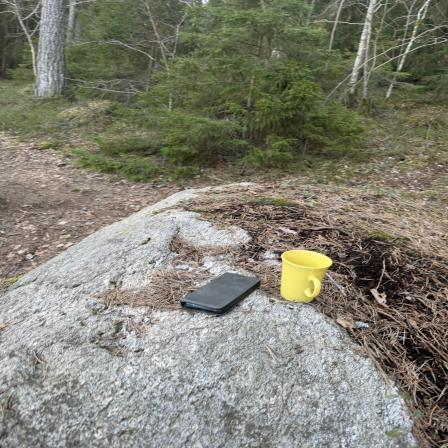phone: (184, 270, 262, 314)
yellow_cup: (280, 246, 332, 304)
